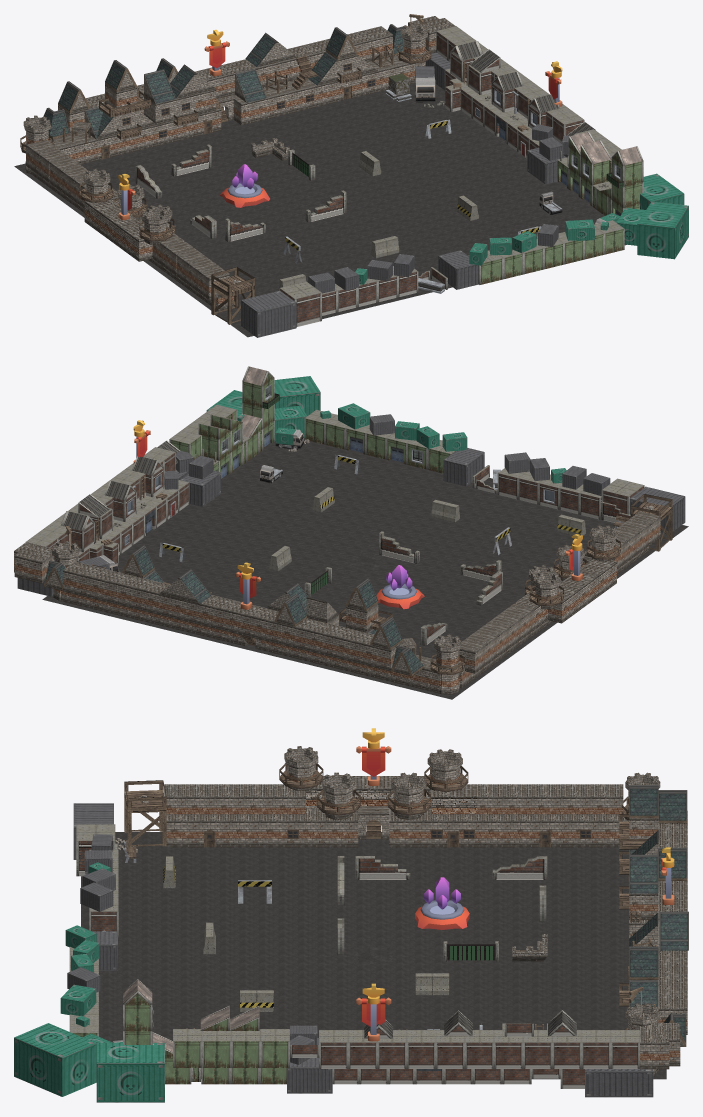
Rendered from map3fixed.fbx.
3 views of the same model, one above another, from view 1: azimuth 30°, elevation 25°; view 2: azimuth 150°, elevation 25°; view 3: azimuth 270°, elevation 25° (orthographic). The views are drawn at different scales.
Visible parts, largest first — view 1: truck_green_cargo__3_, truck_grey_cargo__3_, wall_a__11_, truck_grey_cargo__2_, truck_green_cargo__2_, wall_paint__60_, tower_round_crystals, wall_paint__48_, truck_grey_cargo, wood_floor_railing__4_, roof_high_side__2_, roof_high_side__5_ (+54 smaller); view 2: truck_green_cargo__3_, truck_grey_cargo__2_, truck_grey_cargo__3_, wall_paint__47_, wall_paint__48_, wall_paint__45_, wall_paint__40_, wall_paint__41_, wall_paint__50_, truck_grey_cargo, wall_paint__44_, wall_a__11_ (+48 smaller); view 3: truck_green_cargo__3_, truck_green_cargo__2_, truck_grey_cargo__7_, truck_grey_cargo__4_, wall_paint__35_, tower_round_crystals, wall_paint__57_, wall_paint__29_, roof_high_side__6_, roof_high_side__8_, wall_paint__49_, wall_paint__30_ (+76 smaller).
Part boxes in pixels (x1,y1,x2,y2): truck_green_cargo__3_: [637, 201, 688, 259]; truck_grey_cargo__3_: [241, 290, 296, 337]; wall_a__11_: [279, 281, 321, 326]; truck_grey_cargo__2_: [438, 250, 478, 289]; truck_green_cargo__2_: [640, 173, 684, 209]; wall_paint__60_: [121, 222, 152, 261]; tower_round_crystals: [220, 182, 269, 207]; wall_paint__48_: [355, 26, 392, 61]; truck_grey_cargo: [527, 147, 566, 184]; wood_floor_railing__4_: [211, 267, 254, 296]; roof_high_side__2_: [235, 68, 266, 102]; roof_high_side__5_: [144, 69, 175, 103]; truck_green_cargo__3_: [274, 376, 320, 415]; truck_grey_cargo__2_: [443, 448, 484, 486]; truck_grey_cargo__3_: [629, 486, 685, 533]; wall_paint__47_: [90, 568, 129, 604]; wall_paint__48_: [63, 561, 101, 597]; wall_paint__45_: [118, 575, 156, 611]; wall_paint__40_: [309, 621, 347, 657]; wall_paint__41_: [336, 628, 374, 664]; wall_paint__50_: [14, 552, 53, 583]; truck_grey_cargo: [180, 470, 220, 506]; wall_paint__44_: [199, 595, 238, 631]; wall_a__11_: [601, 478, 644, 514]; truck_green_cargo__3_: [14, 1023, 96, 1096]; truck_green_cargo__2_: [96, 1043, 164, 1102]; truck_grey_cargo__7_: [585, 1069, 653, 1097]; truck_grey_cargo__4_: [287, 1058, 332, 1093]; wall_paint__35_: [166, 814, 204, 847]; tower_round_crystals: [415, 900, 469, 929]; wall_paint__57_: [431, 784, 476, 814]; wall_paint__29_: [389, 808, 426, 847]; roof_high_side__6_: [629, 854, 658, 893]; roof_high_side__8_: [659, 911, 688, 950]; wall_paint__49_: [640, 1026, 669, 1069]; wall_paint__30_: [262, 814, 299, 847].
Bounding box in the file's own units: 3433 × 608 × 3458.
Materials: 135 (135 with a texture image).
